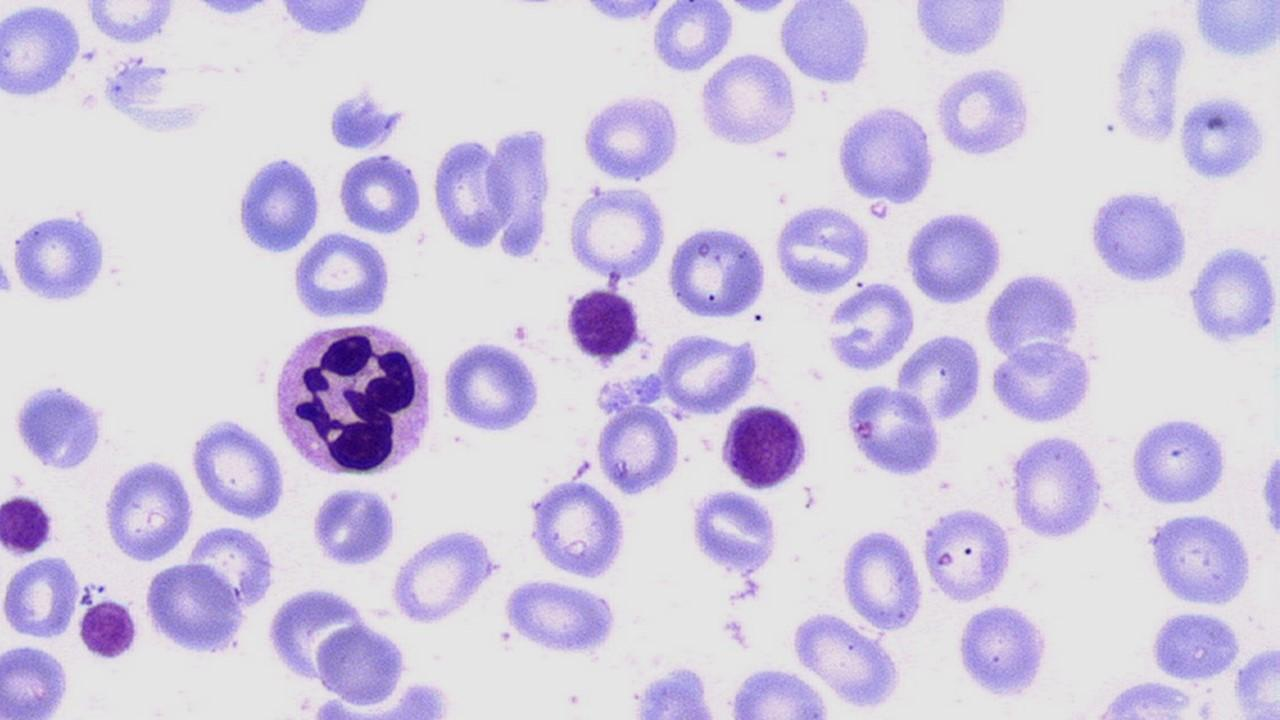Platelets: (1176, 88, 1268, 186), (629, 660, 717, 718), (324, 88, 398, 153), (0, 492, 55, 554), (1256, 440, 1280, 548), (719, 0, 794, 17), (721, 616, 755, 652), (0, 254, 16, 300), (728, 582, 762, 602), (721, 616, 745, 638)
RBC: (793, 610, 906, 712), (1006, 430, 1106, 542), (1146, 508, 1254, 610), (664, 222, 770, 322), (576, 89, 686, 185), (696, 49, 800, 150), (903, 206, 1007, 307), (189, 415, 287, 522), (986, 334, 1096, 429), (438, 336, 544, 434), (564, 183, 670, 281), (100, 455, 196, 563), (485, 120, 557, 262), (498, 576, 619, 660), (1126, 415, 1232, 508), (842, 381, 944, 477), (770, 202, 874, 296), (919, 504, 1015, 605), (431, 133, 512, 252), (839, 525, 925, 632), (658, 330, 762, 416), (822, 280, 916, 374), (894, 329, 985, 425), (185, 522, 278, 614), (596, 402, 684, 496), (308, 482, 400, 569), (687, 488, 782, 572), (336, 149, 423, 237), (1, 553, 81, 641), (650, 0, 734, 76), (722, 662, 834, 716), (0, 638, 76, 715), (77, 594, 140, 662), (1231, 636, 1279, 717)
WBC: (267, 315, 440, 482), (981, 269, 1095, 408), (306, 620, 452, 715), (387, 522, 503, 628), (832, 98, 942, 209), (1085, 182, 1195, 288), (1010, 429, 1112, 542), (189, 411, 288, 526), (4, 204, 115, 306), (142, 558, 254, 658), (1145, 510, 1257, 609), (984, 336, 1103, 429), (100, 451, 197, 565), (526, 474, 630, 580), (930, 62, 1039, 162), (792, 616, 904, 712), (1184, 240, 1280, 352), (952, 600, 1055, 704), (434, 128, 517, 257), (1129, 412, 1237, 511), (1107, 18, 1189, 148), (440, 334, 544, 436), (664, 223, 770, 322), (288, 228, 397, 324), (482, 120, 558, 256), (500, 577, 624, 659), (9, 380, 114, 475), (578, 89, 684, 183), (700, 52, 798, 153), (773, 200, 875, 297), (845, 381, 945, 477), (233, 152, 323, 258), (826, 279, 919, 377), (717, 399, 815, 492), (776, 1, 878, 89), (663, 329, 767, 415), (1176, 92, 1272, 185), (0, 1, 85, 106), (895, 328, 984, 425), (307, 480, 399, 572), (184, 522, 276, 609), (1145, 608, 1247, 682), (2, 553, 84, 640), (907, 0, 1018, 62), (563, 283, 641, 365), (650, 1, 736, 75), (723, 662, 833, 716), (1190, 1, 1280, 64), (1082, 676, 1222, 716), (626, 659, 724, 716), (264, 0, 387, 37), (77, 594, 140, 664), (83, 0, 183, 44), (0, 491, 56, 558), (1256, 435, 1280, 554), (573, 0, 666, 26)
